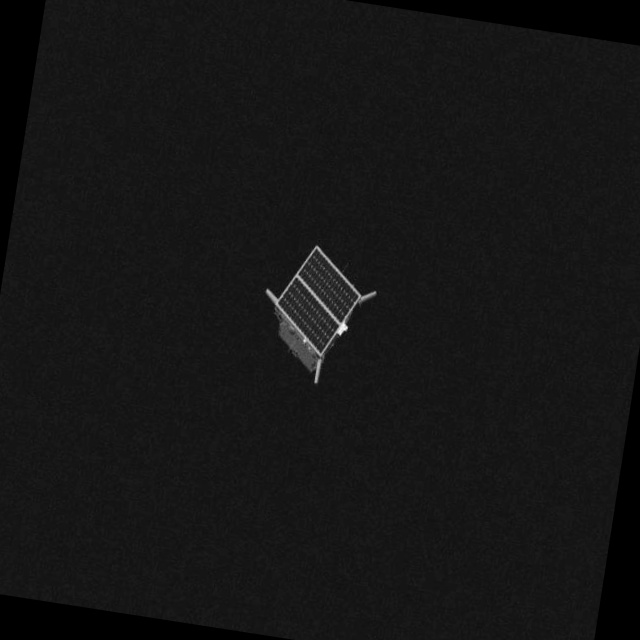satellite: (249, 233, 385, 393)
